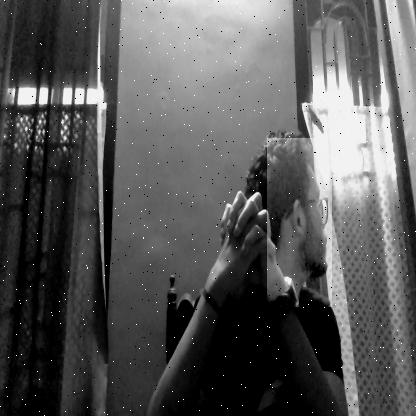Distracted: (267, 138, 332, 307)
